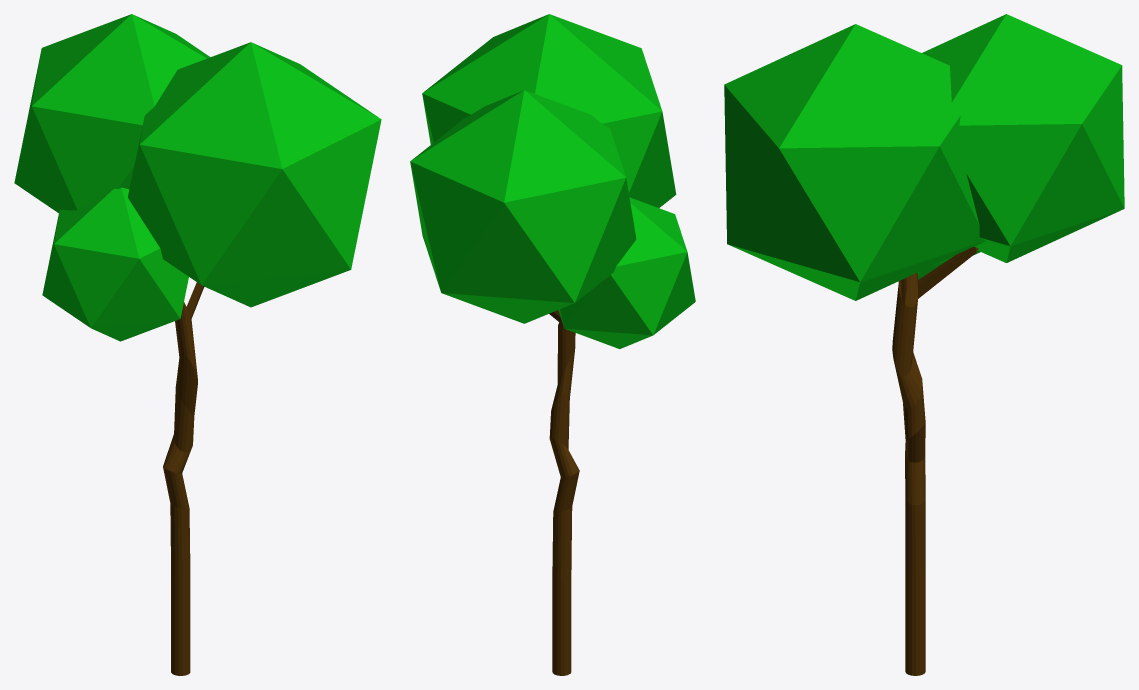
Rendered from tree_3.fbx.
The picture shows the model from 3 angles, left to right: view 1: azimuth 30°, elevation 25°; view 2: azimuth 150°, elevation 25°; view 3: azimuth 270°, elevation 25°; orthographic projection. The views are drawn at different scales.
Parts seen in each view (by area): view 1: Tree2; view 2: Tree2; view 3: Tree2.
Boxes of the visible parts, box(x1,y1,x2,y2) form: Tree2: box(14, 14, 381, 675); Tree2: box(410, 14, 695, 675); Tree2: box(724, 14, 1124, 675).
Bounding box in the file's own units: 122 × 264 × 143.
